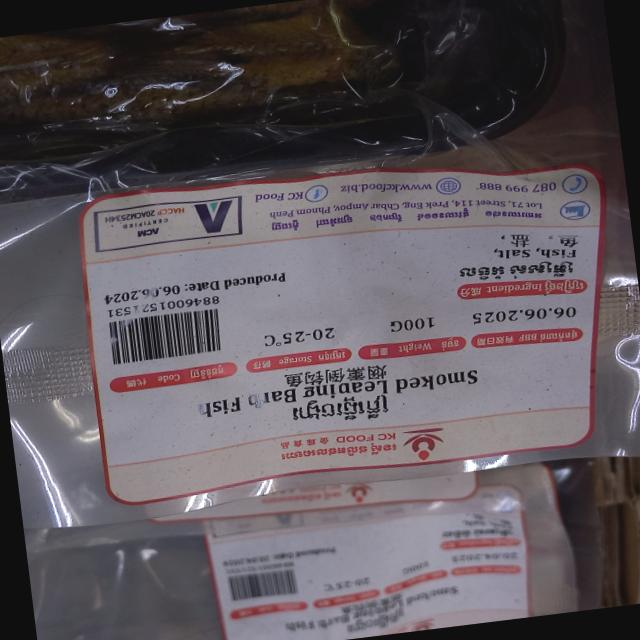1: (453, 259, 577, 284), (278, 440, 396, 463)
341: (102, 281, 182, 305)
342: (466, 302, 580, 325)
4: (267, 206, 543, 236)
415: (474, 177, 558, 194)
534: (400, 311, 436, 332)
554: (451, 198, 475, 208)
642: (277, 325, 336, 345)
829: (508, 199, 526, 209)
857: (104, 293, 222, 320)
Yolov11_80vkh: (279, 392, 395, 431), (186, 362, 226, 380), (541, 279, 585, 295), (536, 328, 580, 343), (315, 348, 349, 363), (439, 335, 461, 351)
